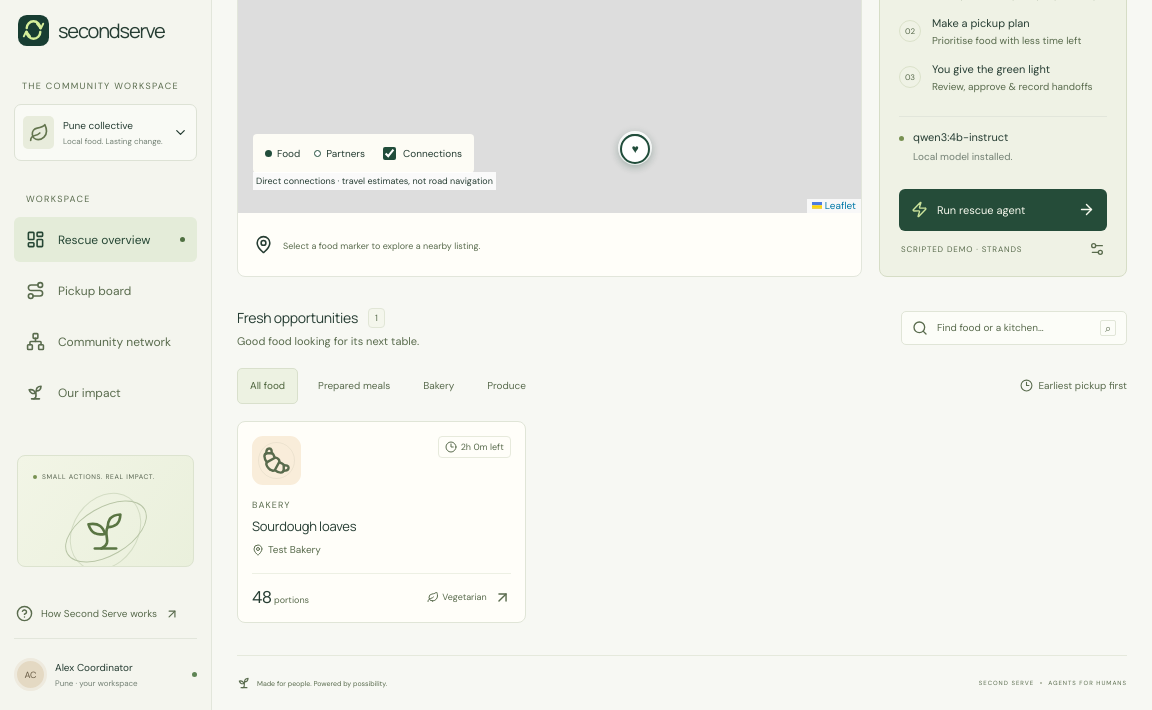
Test: coordinator interface › filters listings and clears an empty search
(page scrolled)
Expected: the heading "Sourdough loaves" is shown, [252,517,356,535]
Click the button "Produce": click(507, 386) [474,368,539,404]
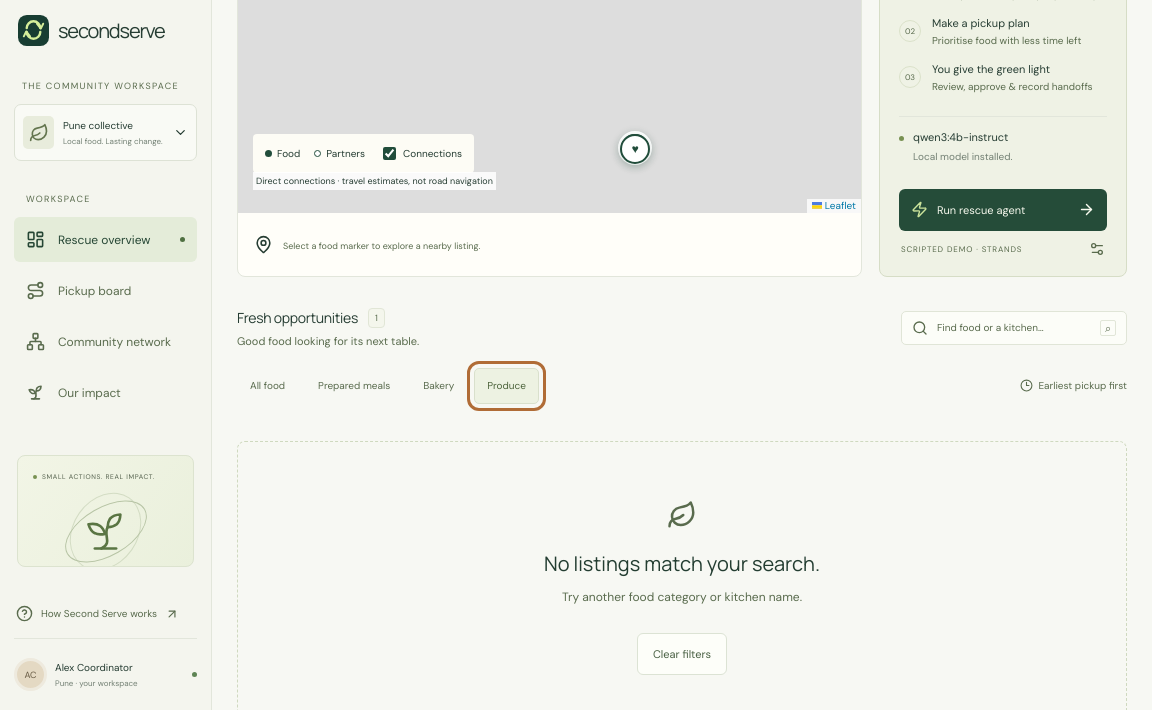
Expected: the heading "No listings match your search." is shown, [544,550,820,577]
Click the button "Clear filters": click(682, 654) [637,632,727,674]
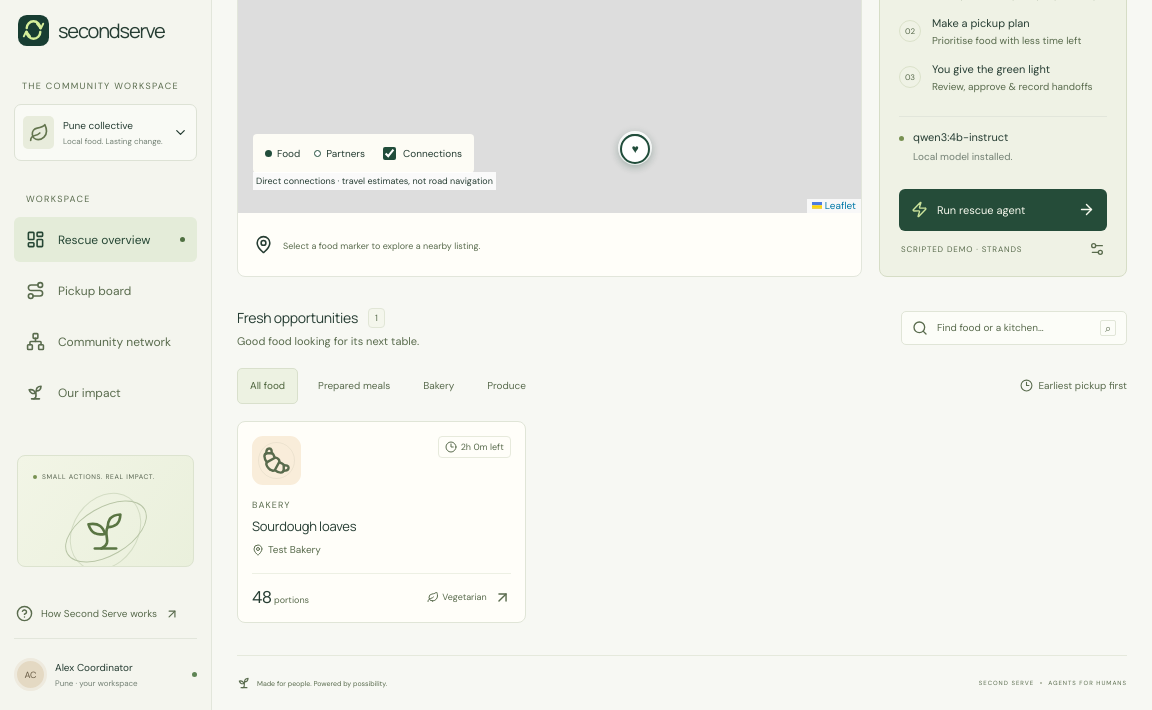
Expected: the heading "Sourdough loaves" is shown, [252,517,356,535]
In the field named "Search surplus food": (1014, 328) [935,320,1093,336], type "nonexistent"
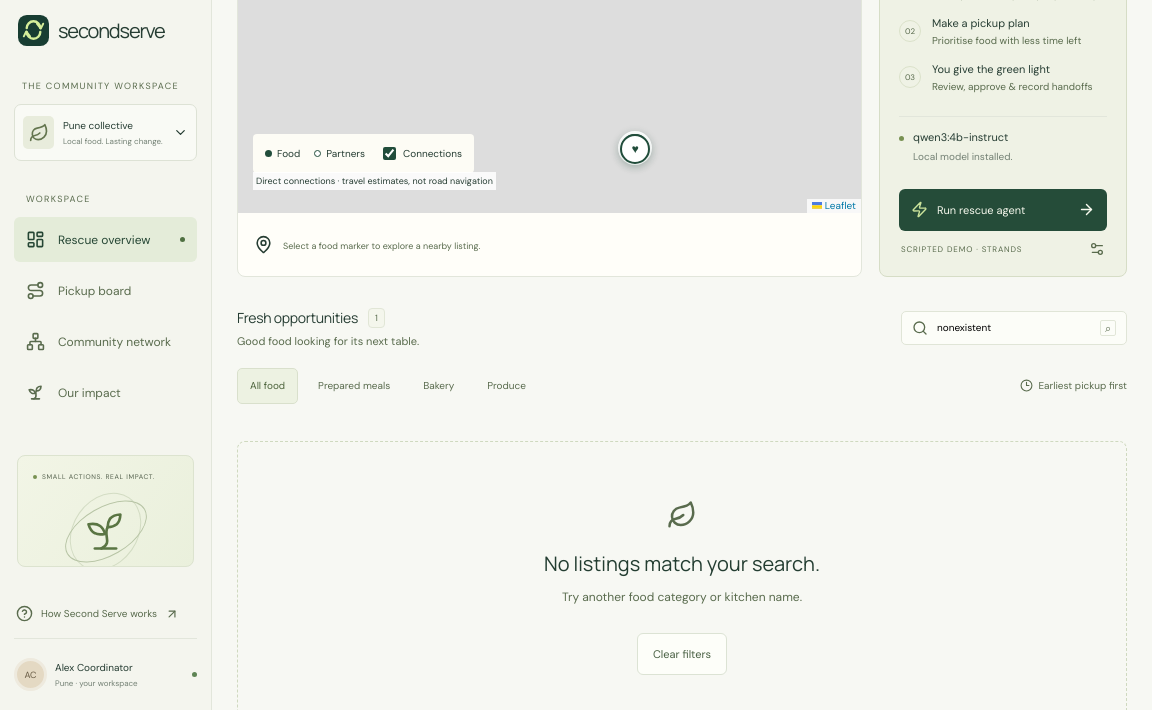
Expected: the heading "No listings match your search." is shown, [544,550,820,577]
